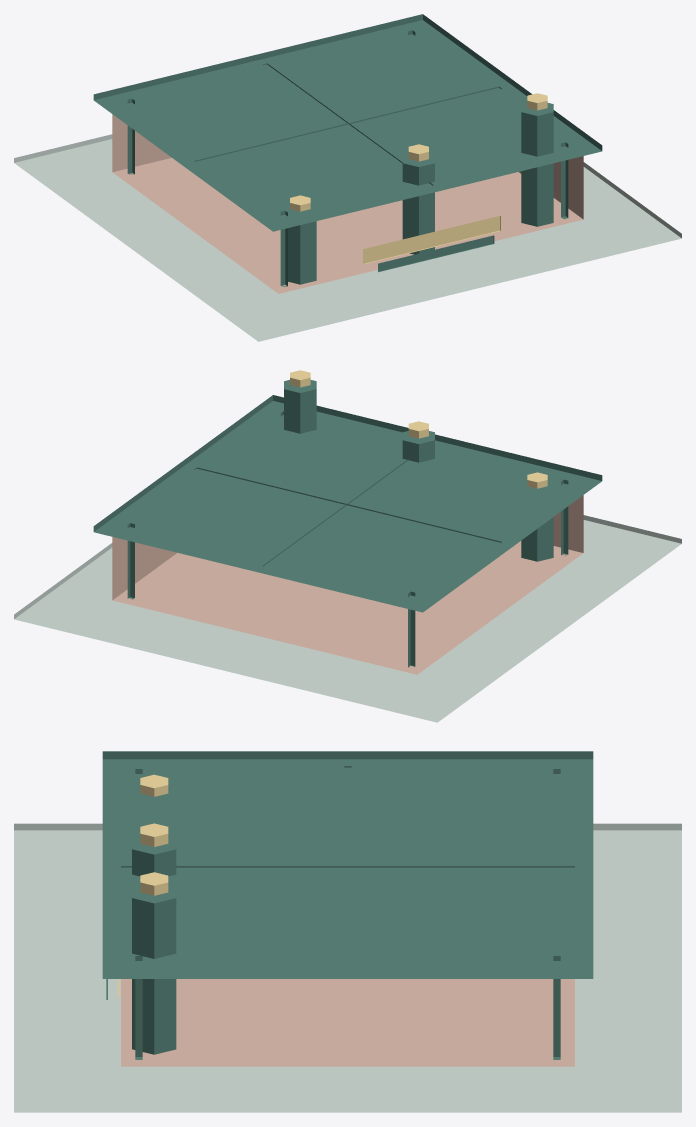
Rendered from refinery.glb.
The picture shows the model from 3 angles, top to bottom: view 1: azimuth 30°, elevation 25°; view 2: azimuth 150°, elevation 25°; view 3: azimuth 270°, elevation 25°; orthographic projection. The views are drawn at different scales.
Parts seen in each view (by area): view 1: Roof, Foundation, Walls, Details, Frame; view 2: Roof, Foundation, Walls, Details, Frame; view 3: Roof, Foundation, Walls, Details, Frame.
Boxes of the visible parts, x1,y1,x2,y2 form: Roof: (93, 14, 602, 231); Foundation: (14, 134, 681, 341); Walls: (112, 114, 583, 293); Details: (288, 93, 553, 284); Frame: (127, 30, 568, 286); Roof: (93, 395, 602, 612); Foundation: (14, 515, 681, 722); Walls: (112, 495, 583, 674); Details: (284, 370, 553, 561); Frame: (127, 411, 568, 667); Roof: (102, 751, 593, 978); Foundation: (14, 823, 681, 1112); Walls: (121, 979, 574, 1066); Details: (106, 774, 176, 1054); Frame: (121, 766, 574, 1059).
Bounding box in the file's own units: 60 × 17 × 60.
